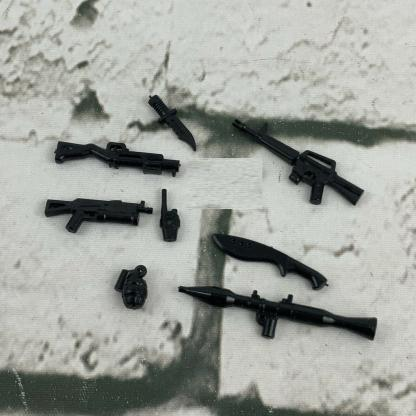Grenade: (115, 263, 152, 311)
Gun: (176, 283, 380, 347), (231, 117, 365, 208), (53, 138, 183, 177), (43, 195, 156, 234)
Knife: (210, 231, 328, 289), (146, 92, 198, 152)
